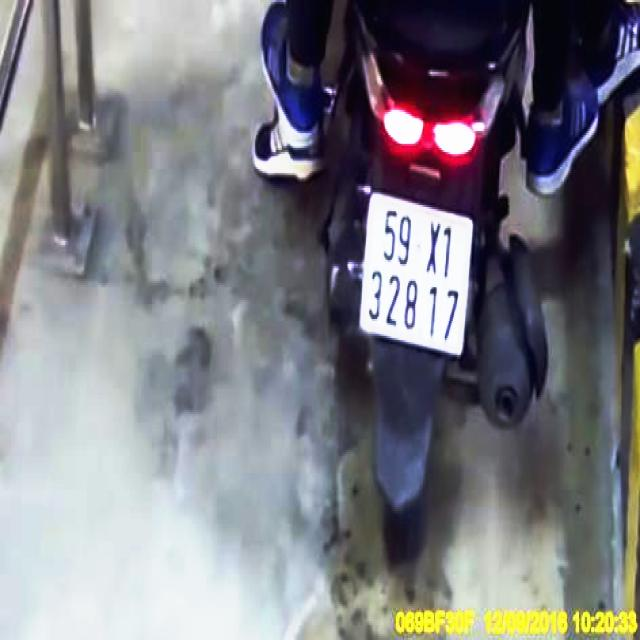license_plate: (359, 191, 475, 357)
